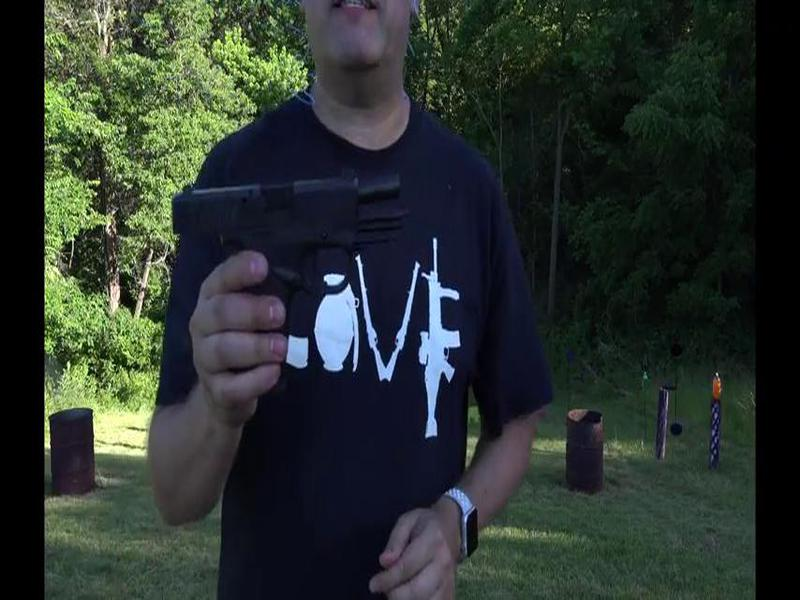Pistola: (166, 151, 435, 335)
